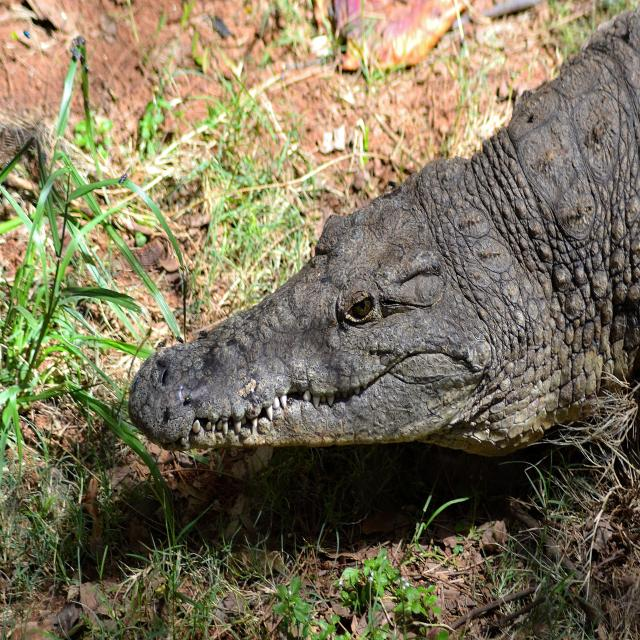crocodile: (125, 1, 639, 454)
